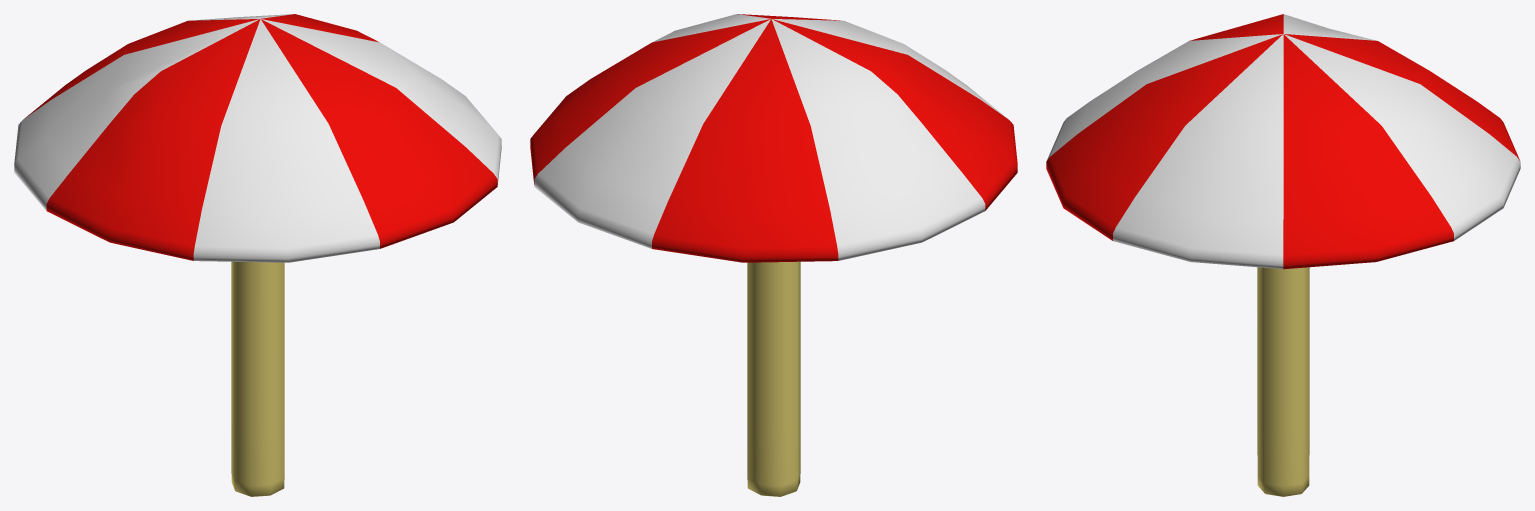
File: parasol.fbx
3 views of the same model, side by side, from view 1: azimuth 30°, elevation 25°; view 2: azimuth 150°, elevation 25°; view 3: azimuth 270°, elevation 25° (orthographic). The views are drawn at different scales.
Parts seen in each view (by area): view 1: parasol; view 2: parasol; view 3: parasol.
Boxes of the visible parts, x1,y1,x2,y2 form: parasol: (14, 14, 501, 496); parasol: (530, 14, 1017, 496); parasol: (1046, 14, 1520, 496).
Size of the model in its own units: 334 by 353 by 334.
